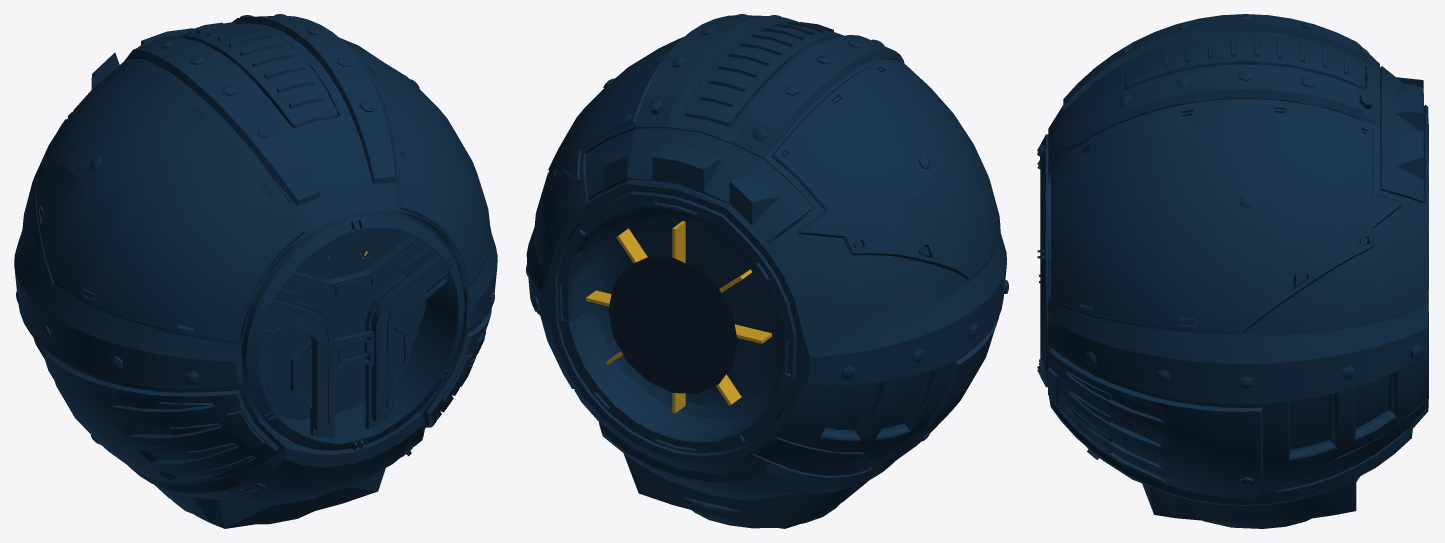
Rendered from Wall_orb_v5.fbx.
3 views of the same model, side by side, from view 1: azimuth 30°, elevation 25°; view 2: azimuth 150°, elevation 25°; view 3: azimuth 270°, elevation 25° (orthographic).
Visible parts, largest first — view 1: Sphere; view 2: Sphere, Disc, Cube_5_2; view 3: Sphere.
Part boxes in pixels (x1,y1,x2,y2): Sphere: (14, 14, 497, 528); Sphere: (526, 14, 1008, 528); Disc: (608, 257, 737, 393); Cube_5_2: (586, 221, 771, 413); Sphere: (1037, 14, 1428, 528).
Size of what is drawn, in the model's own units: 350 by 373 by 283.
